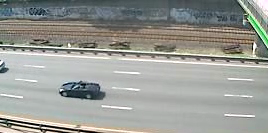car: (57, 78, 103, 102)
